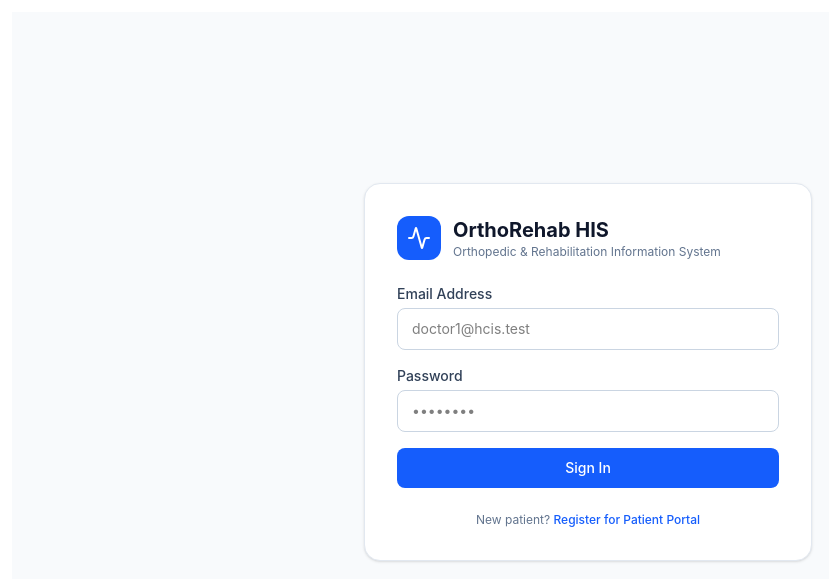
Authentication & RBAC flows › logs in via authApi.login and does not render quick-demo buttons
In the field labelled "Email Address": [588, 329] box [397, 308, 779, 350], type "doctor@demo.ortho.local"
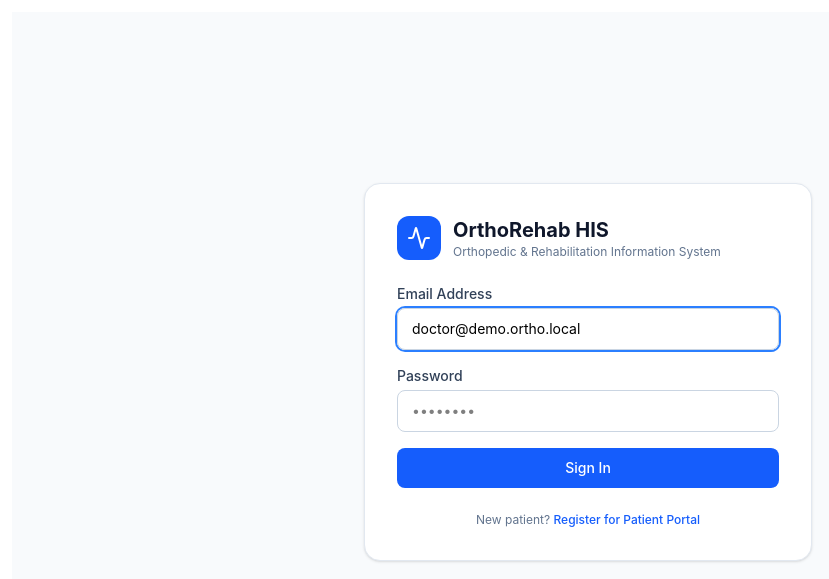
In the password field labelled "Password": [588, 411] box [397, 390, 779, 432], type "Test@12345"
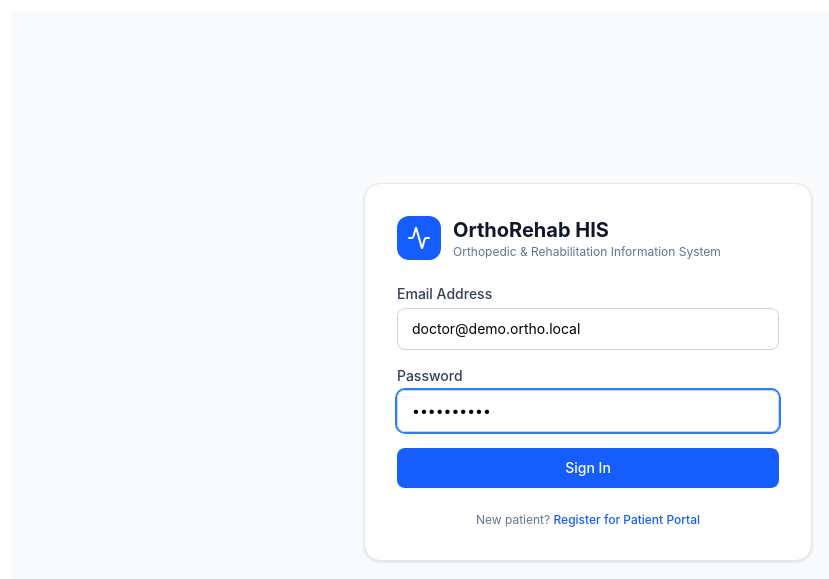
Click the button "Sign In": [588, 468] box [397, 448, 779, 488]
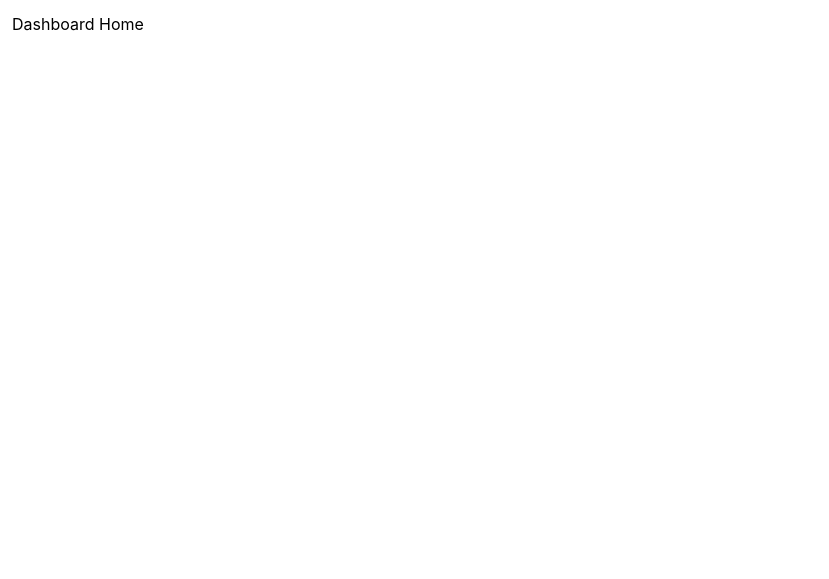
expect the text "Dashboard Home" is shown: met, box [12, 14, 144, 34]
